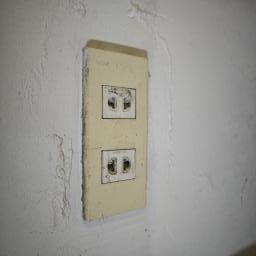outlet: (81, 41, 152, 224)
